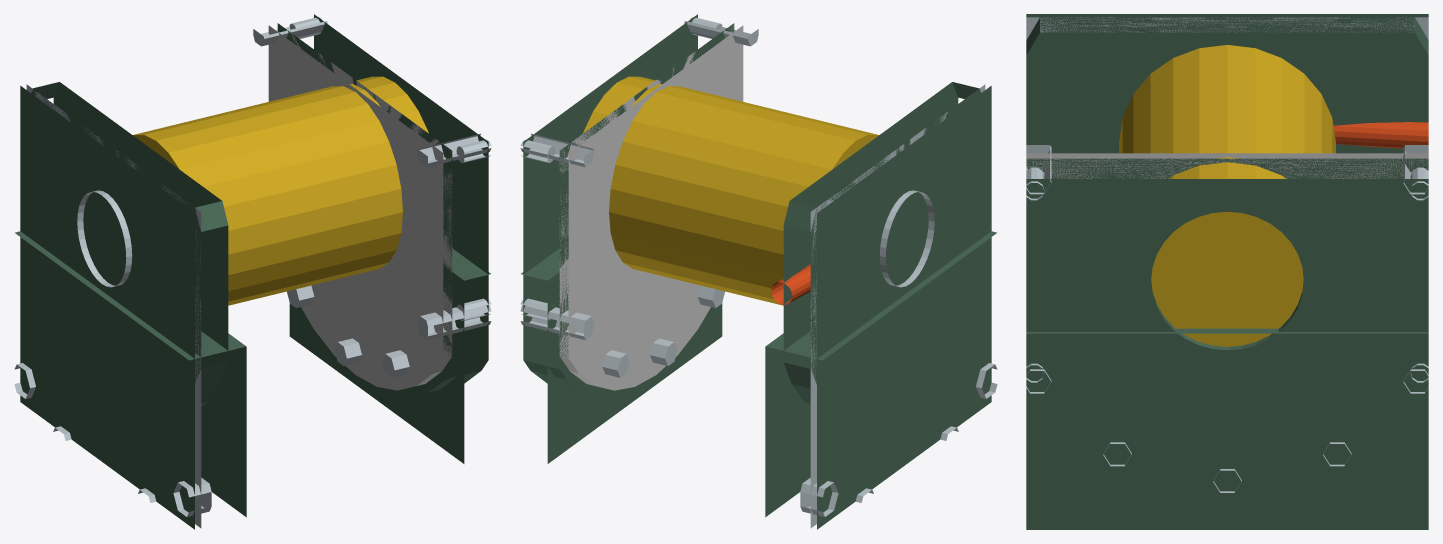
File: cell_37.obj
3 views of the same model, side by side, from view 1: azimuth 30°, elevation 25°; view 2: azimuth 150°, elevation 25°; view 3: azimuth 270°, elevation 25° (orthographic). The views are drawn at different scales.
Bounding box in the file's own units: 1 × 1 × 1.
